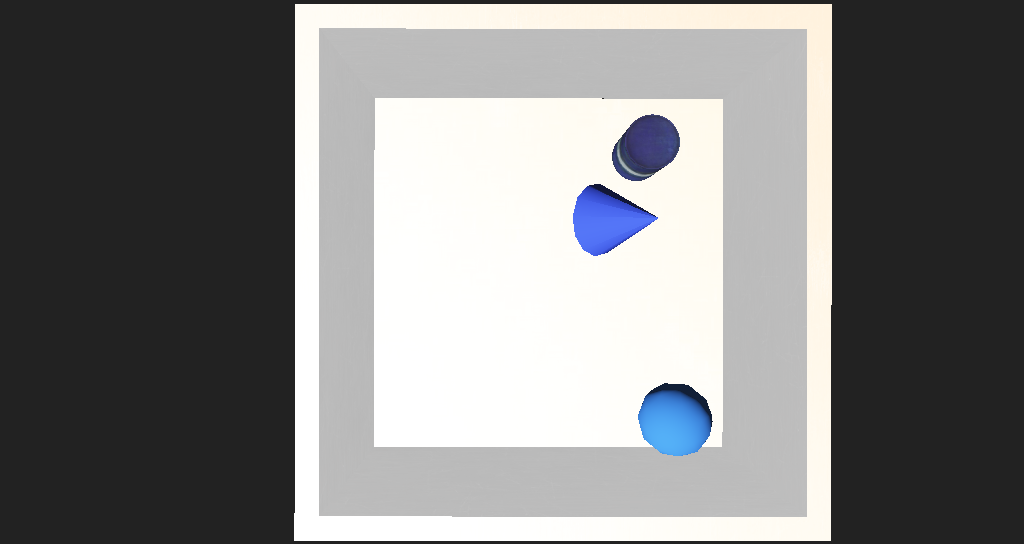cone: (559, 172, 613, 210)
cylinder: (522, 200, 637, 267)
sphere: (579, 336, 647, 379)
